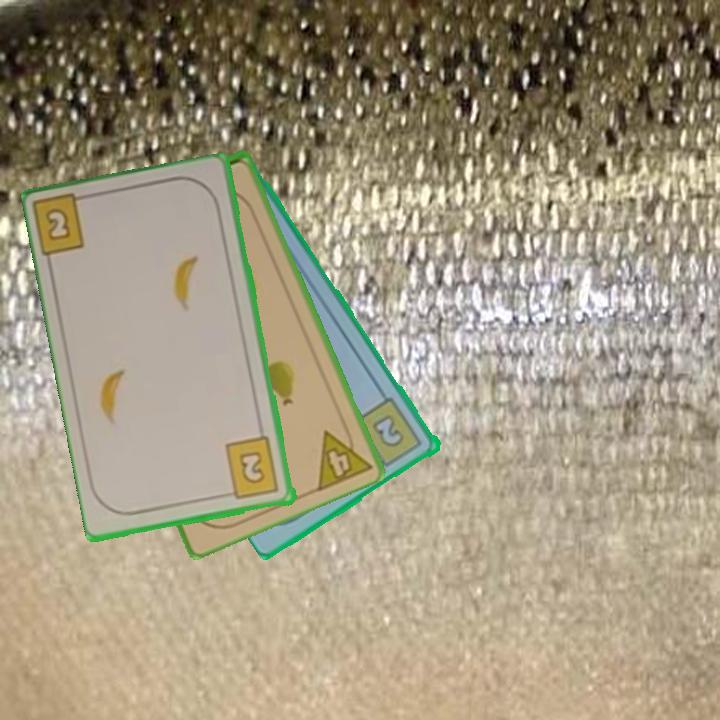2b: (352, 394, 426, 473), (32, 191, 97, 261), (221, 434, 282, 502)
4p: (313, 416, 375, 494)
